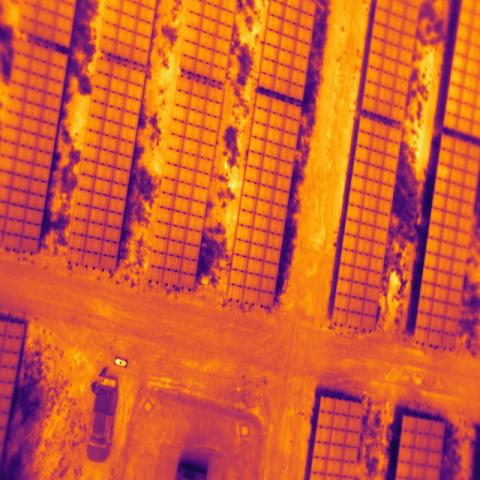fault: (436, 163, 452, 182)
